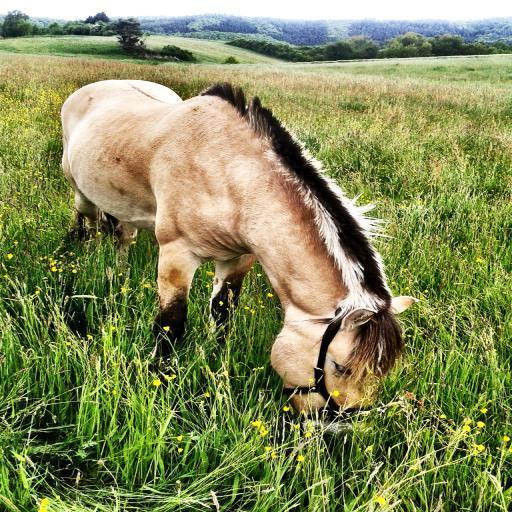horse: (60, 78, 416, 452)
